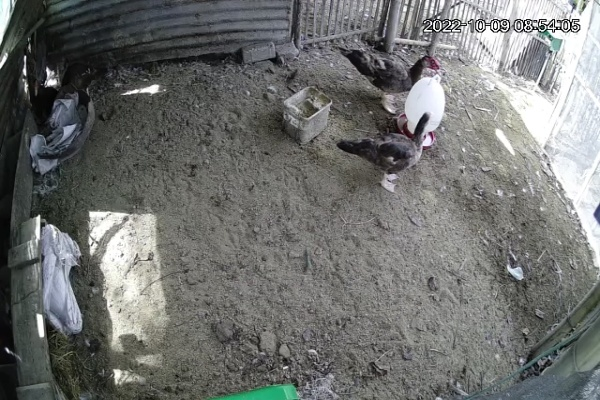Entog: (332, 106, 437, 185), (339, 50, 452, 101)
